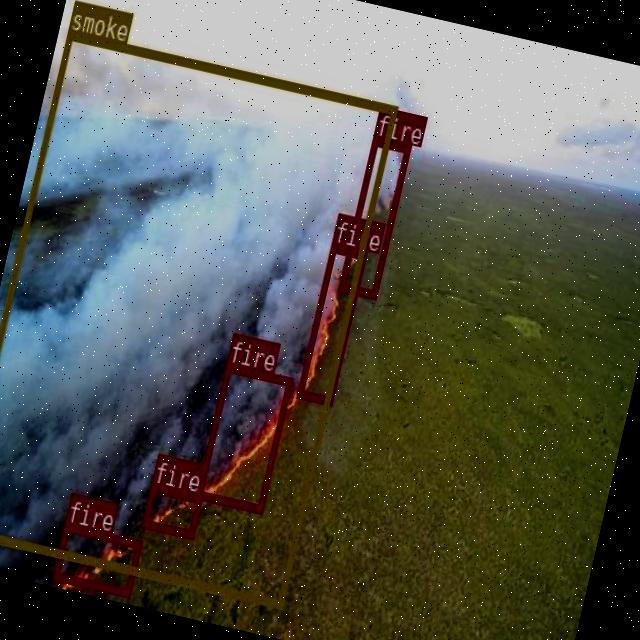fire: (195, 360, 293, 512), (338, 135, 410, 296), (296, 242, 364, 403), (51, 521, 142, 596), (140, 482, 202, 538)
smoke: (0, 28, 397, 607)
